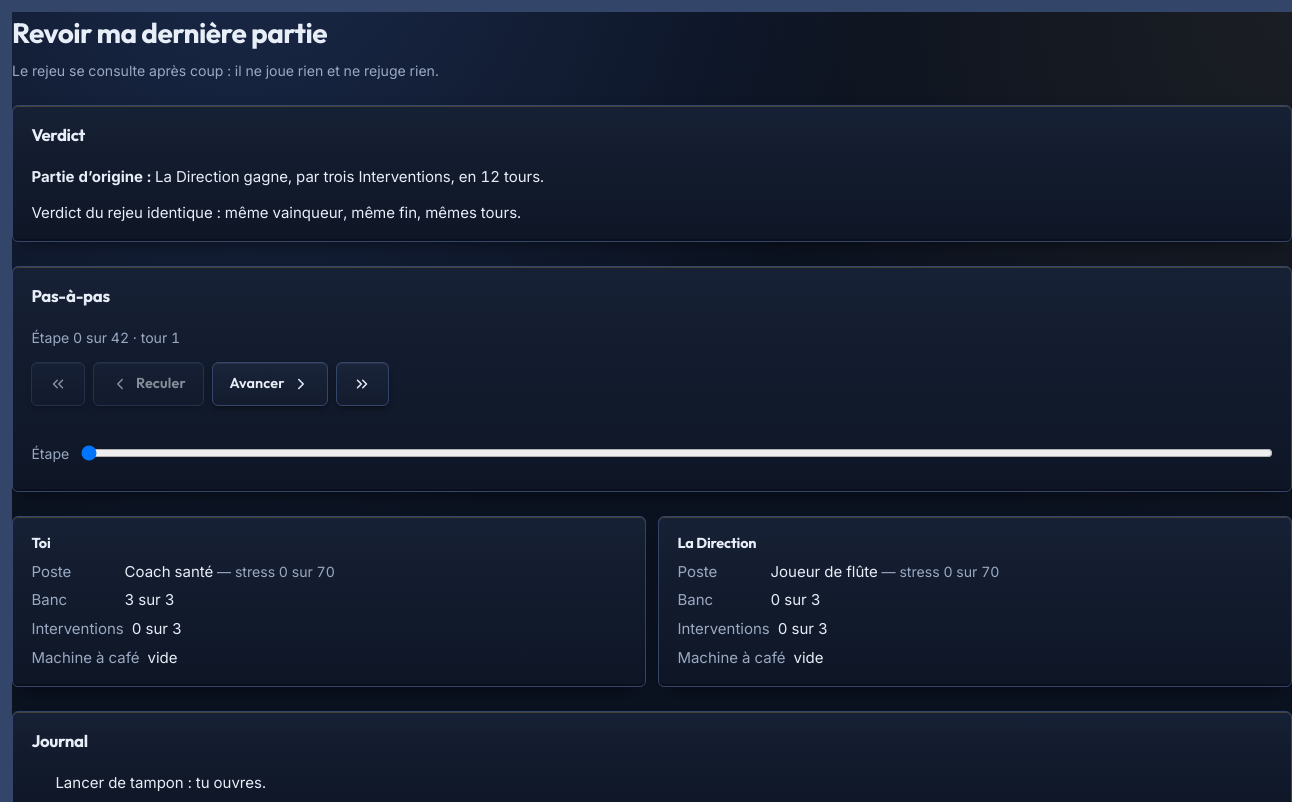
Test: Rejeu — revoir une partie terminée › le pas-à-pas avance, recule et saute aux deux bouts
Click the button "Avancer": (270, 384) x1=212 y1=362 x2=328 y2=406
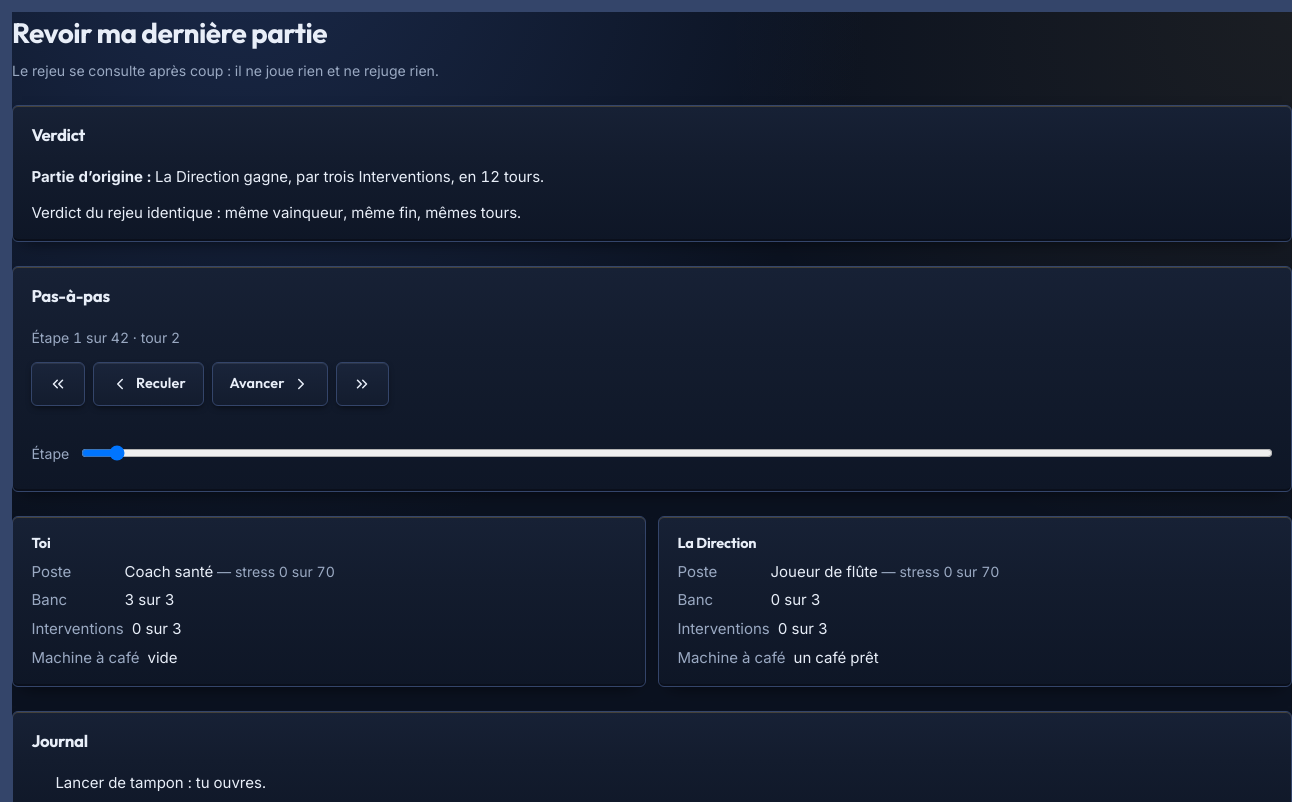
Click the button named "À la fin": (362, 384) x1=336 y1=362 x2=389 y2=406
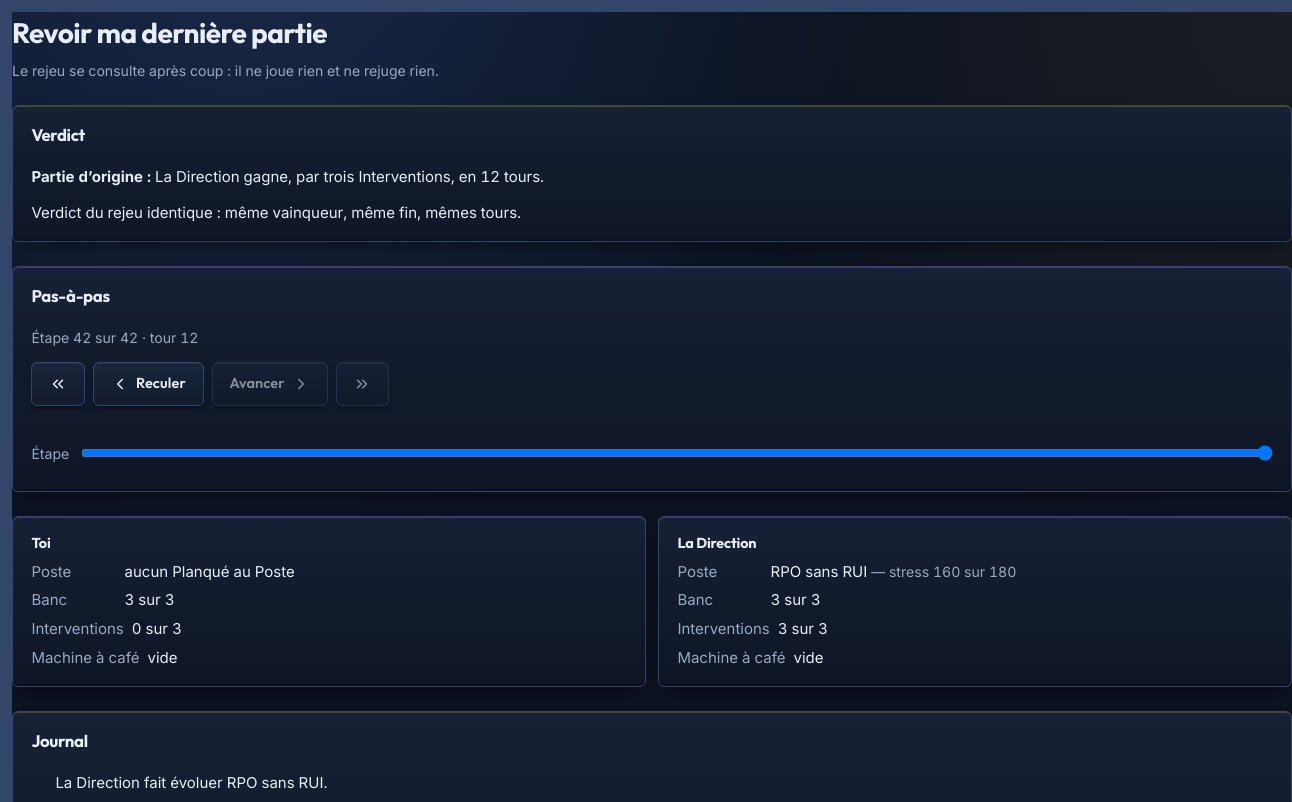
Now the button "Avancer" is disabled, box x1=212 y1=362 x2=328 y2=406
Click the button named "Au début": (58, 384) x1=31 y1=362 x2=85 y2=406
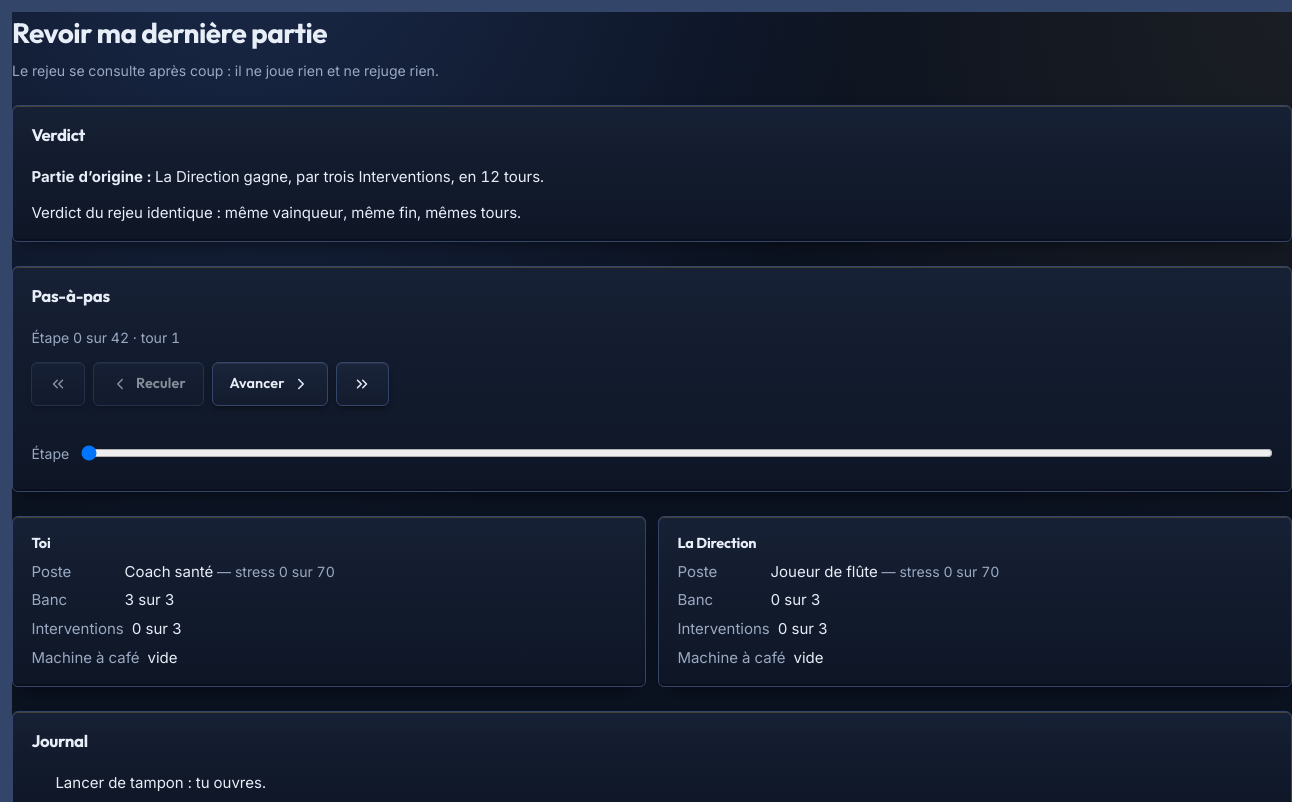
Now the button "Reculer" is disabled, box x1=93 y1=362 x2=204 y2=406
